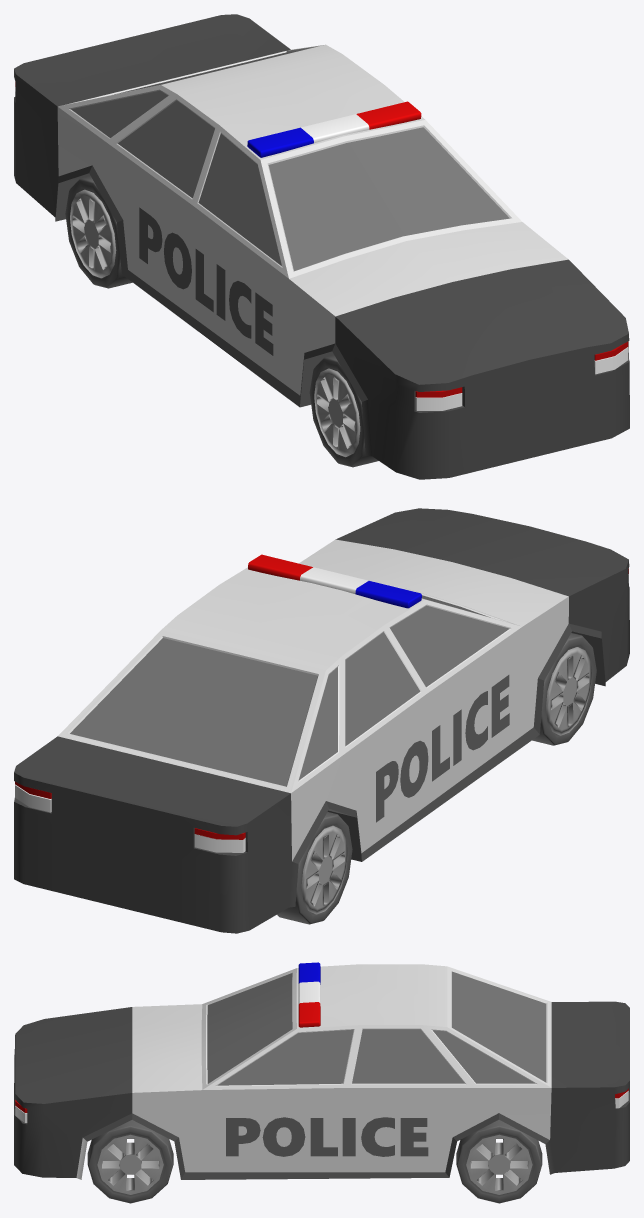
The model's file is police2.fbx.
3 renders of one model, top to bottom at view 1: azimuth 30°, elevation 25°; view 2: azimuth 150°, elevation 25°; view 3: azimuth 270°, elevation 25°, orthographic. The views are drawn at different scales.
Parts seen in each view (by area): view 1: pCube24, wheel6, wheel1; view 2: pCube24, wheel6, wheel1; view 3: pCube24, wheel, wheel7.
Boxes of the visible parts, bbox=[...] form: pCube24: bbox=[14, 14, 629, 479]; wheel6: bbox=[65, 176, 132, 288]; wheel1: bbox=[309, 355, 378, 467]; pCube24: bbox=[14, 508, 629, 933]; wheel6: bbox=[277, 812, 352, 924]; wheel1: bbox=[532, 633, 596, 745]; pCube24: bbox=[14, 962, 629, 1179]; wheel: bbox=[87, 1120, 173, 1203]; wheel7: bbox=[456, 1120, 542, 1203].
Size of the model in its own units: 2.1 by 1.88 by 6.19.
